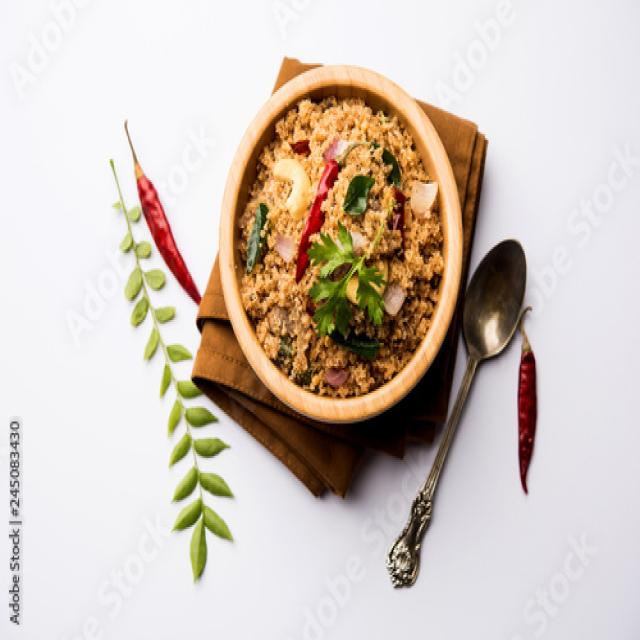UPMA: (238, 100, 443, 397)
